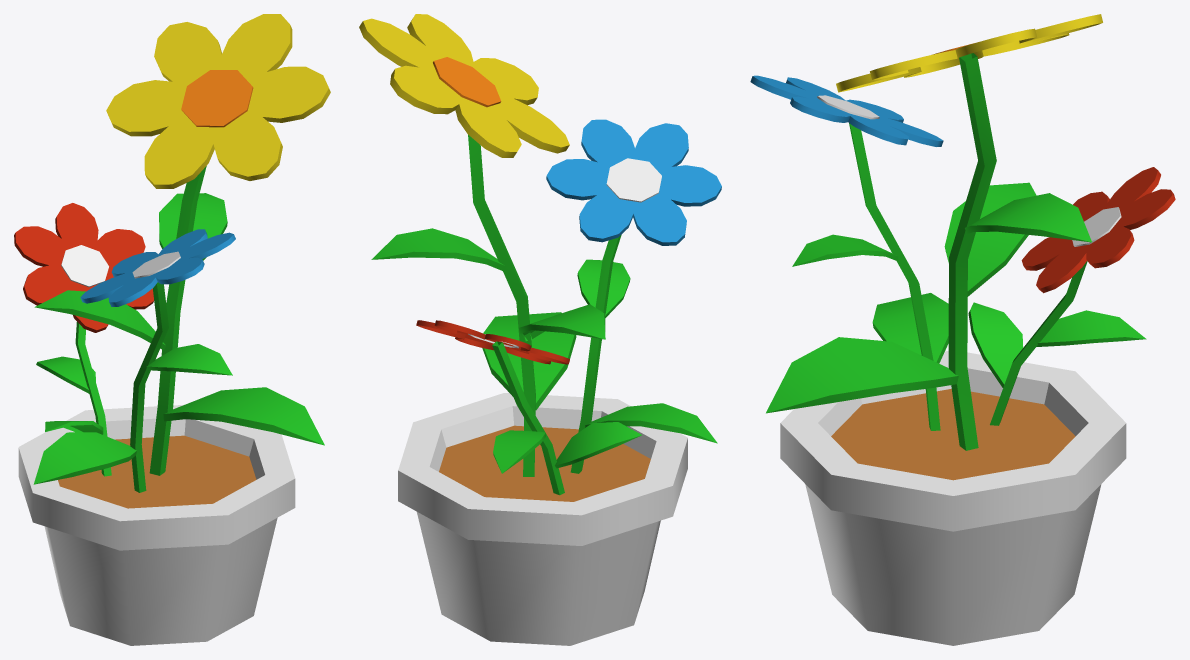
File: chau hoa2.FBX
3 renders of one model, left to right at view 1: azimuth 30°, elevation 25°; view 2: azimuth 150°, elevation 25°; view 3: azimuth 270°, elevation 25°, orthographic. The views are drawn at different scales.
Parts seen in each view (by area): view 1: Object1375; view 2: Object1375; view 3: Object1375.
Boxes of the visible parts, bbox=[...] form: Object1375: bbox=[14, 14, 330, 645]; Object1375: bbox=[359, 14, 721, 645]; Object1375: bbox=[750, 14, 1175, 645].
Bounding box in the file's own units: 1.02 × 1.77 × 1.05.
